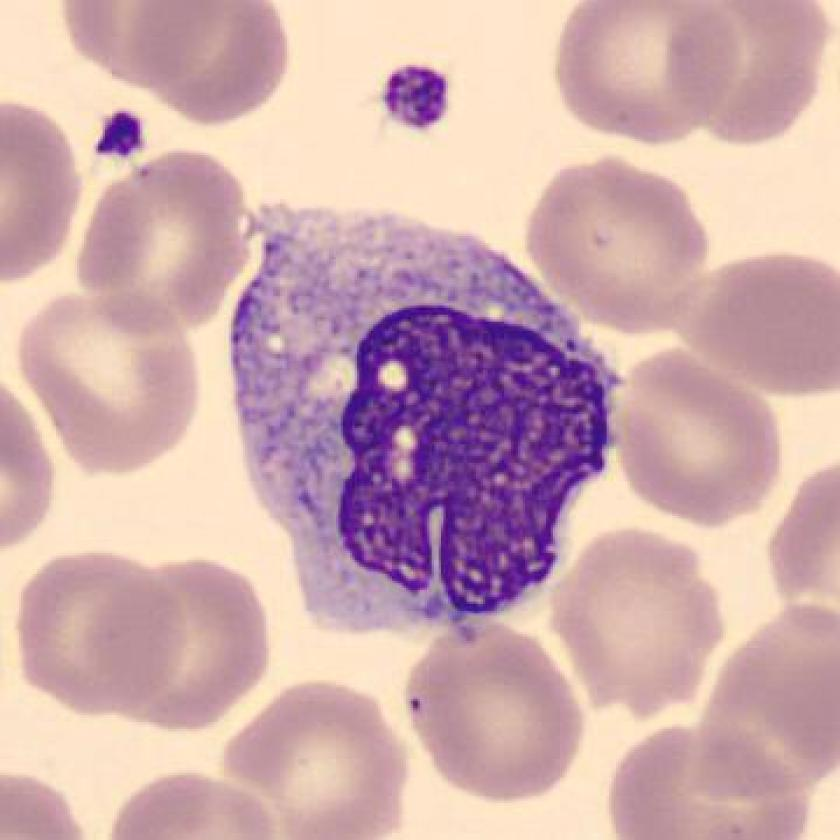monocyte: (211, 170, 636, 656)
